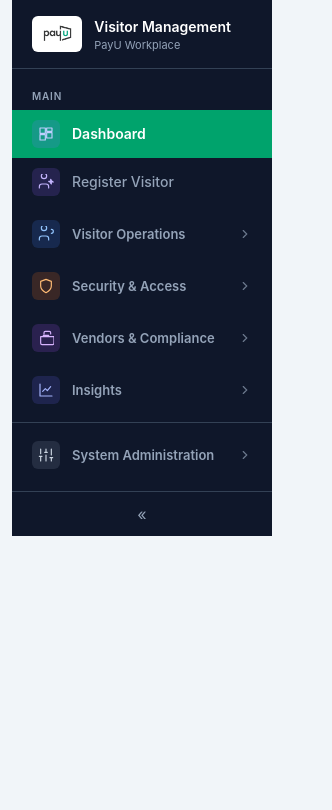
sidebar accordion by role › HEAD_ADMIN accordion works with visible groups
Click the button "Visitor Operations": (142, 234) [12,210,272,258]
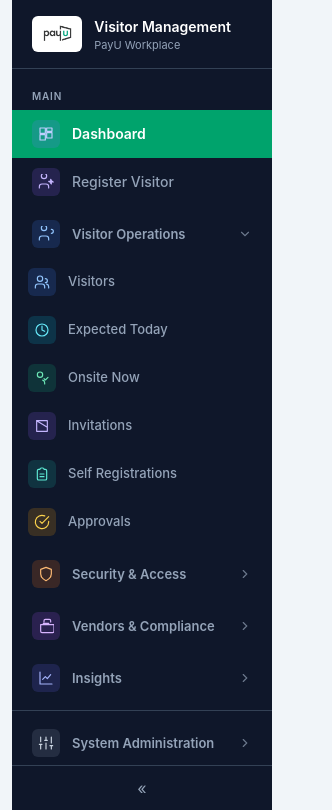
Click the button "Security & Access": (142, 574) [12,550,272,598]
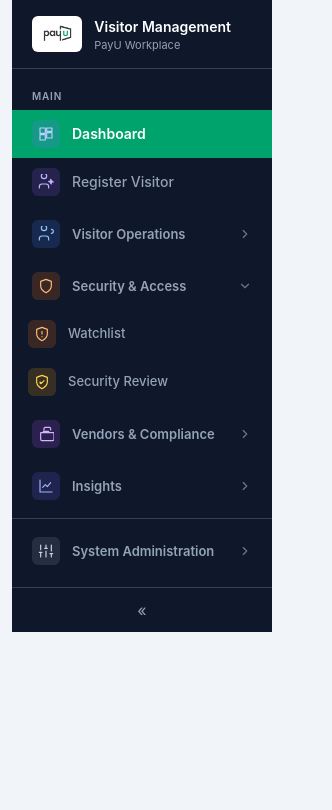
Result: the button "Security & Access" is expanded at [12,262,272,310]
